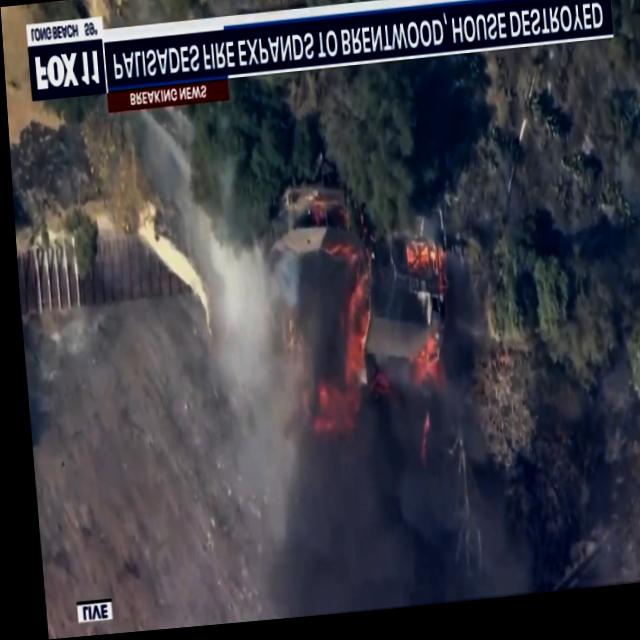Smoke: (290, 404, 506, 621)
